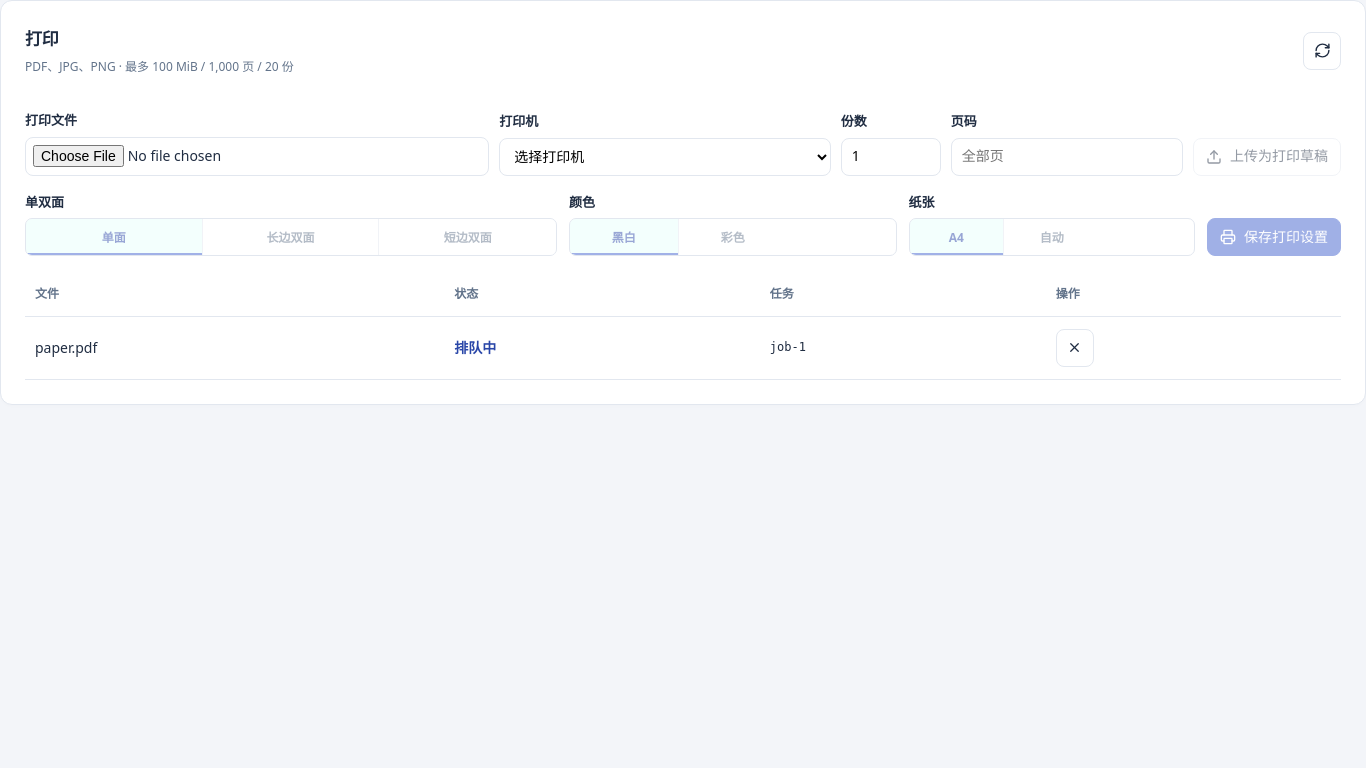
Test: PrintOperationsPanel › cancels and reprints from recent jobs
Click the button named "取消打印 paper.pdf": (1075, 348) [1056, 328, 1094, 366]
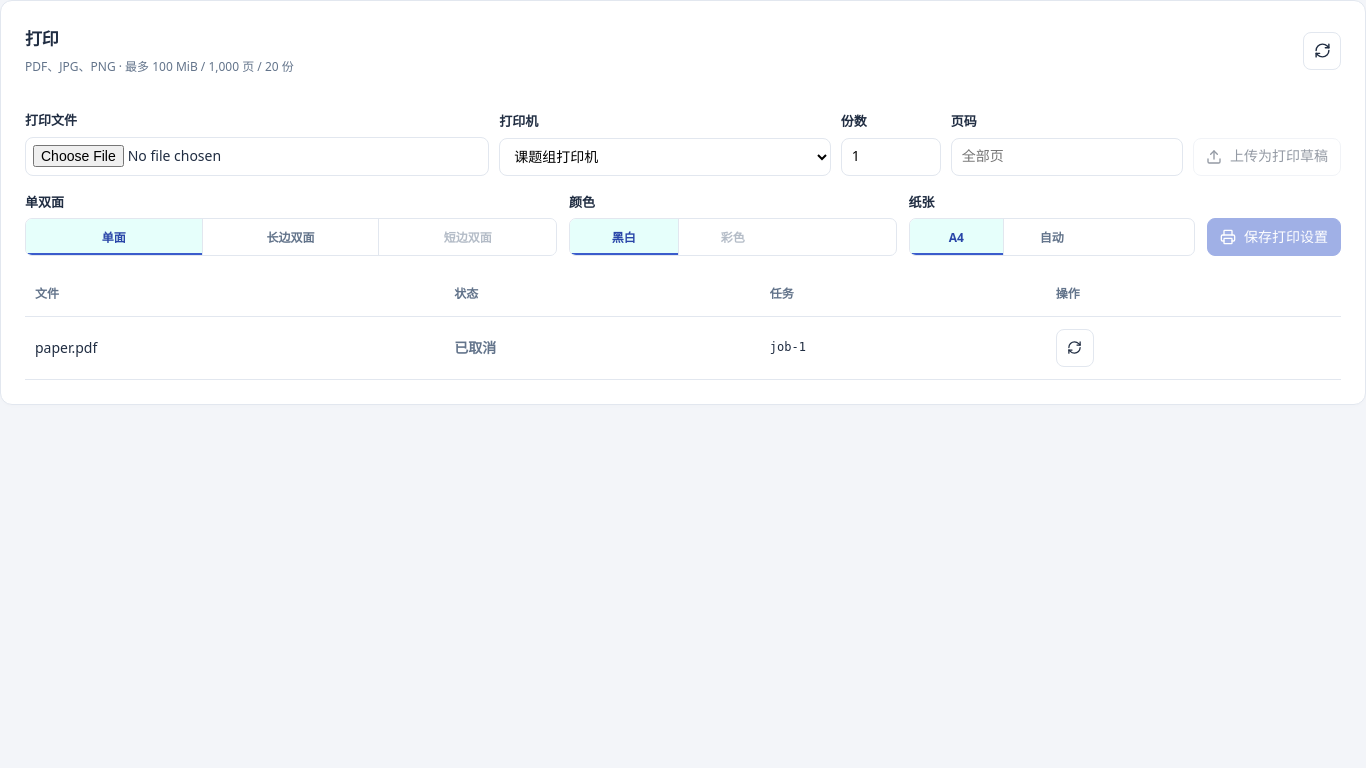
Expected: the text "已取消" is shown, [454, 338, 496, 357]
Click the button named "重新打印 paper.pdf": (1075, 348) [1056, 328, 1094, 366]
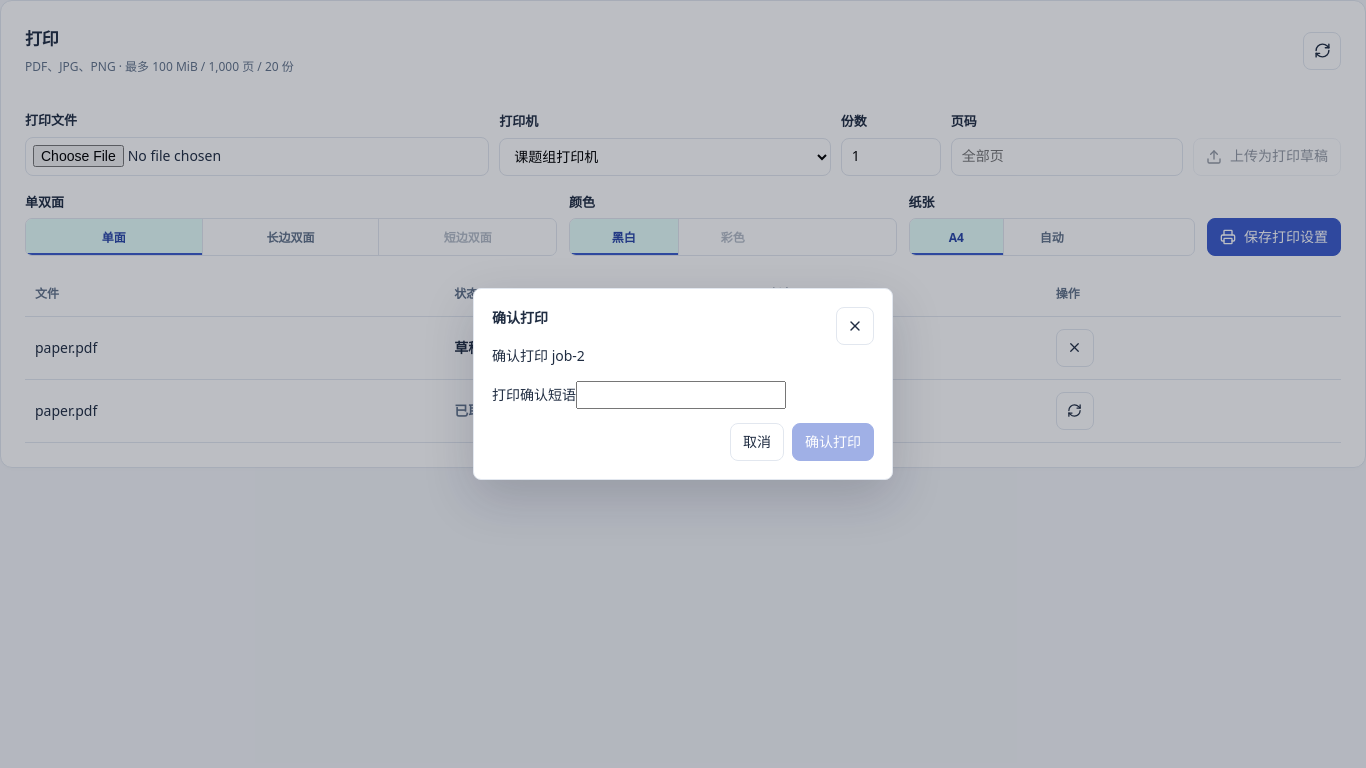
Expected: the field labelled "打印确认短语" is shown, [576, 381, 786, 409]
